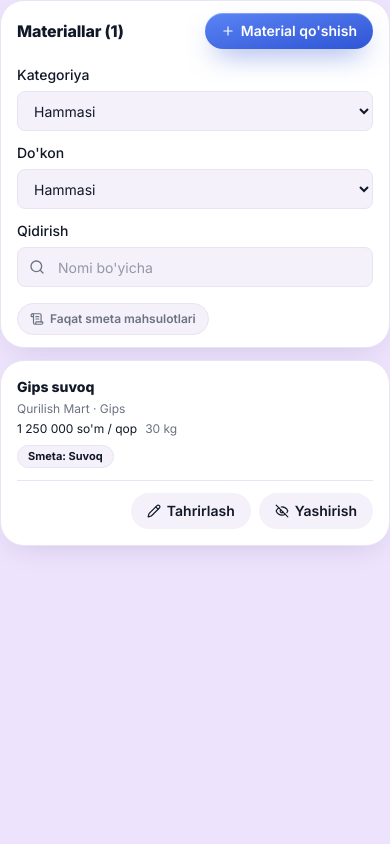
Test: AdminMaterials dialog › opens the form from Material qo'shish and from Tahrirlash
The width and height of the screenshot is (390, 844).
expect the text "Gips suvoq" is shown: met, box [17,378,94,395]
Click the button "Material qo'shish" at (289, 31), box [205,13,373,49]
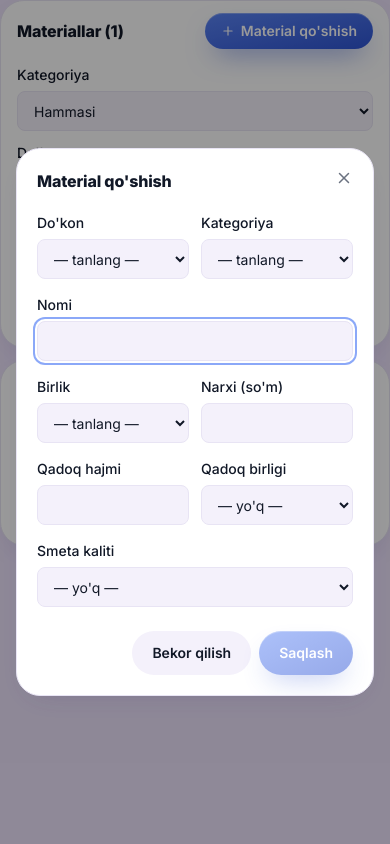
expect the field labelled "Nomi" is empty: met
Press Escape in the field labelled "Nomi", box [37,321,353,361]
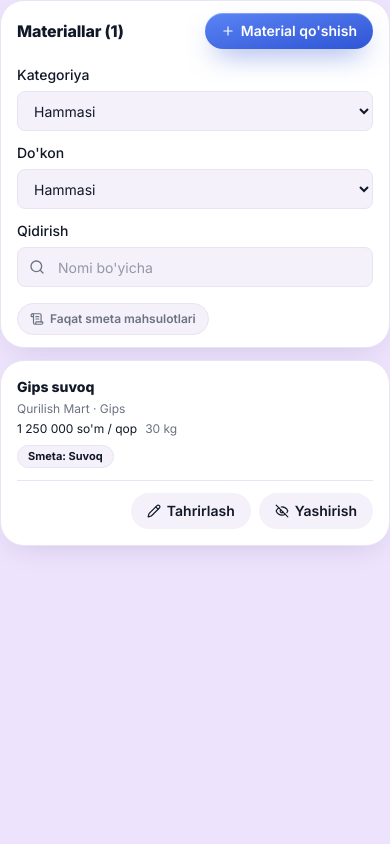
Click the button "Tahrirlash" at (191, 510), box [131,492,251,528]
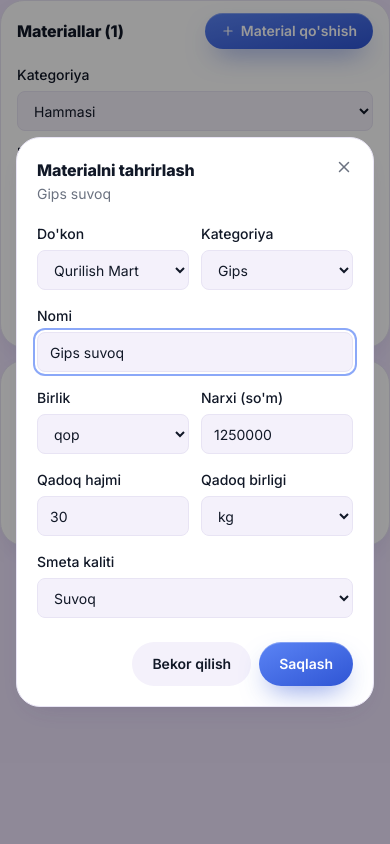
expect the field labelled "Nomi" holds "Gips suvoq": met, box [37,332,353,372]
